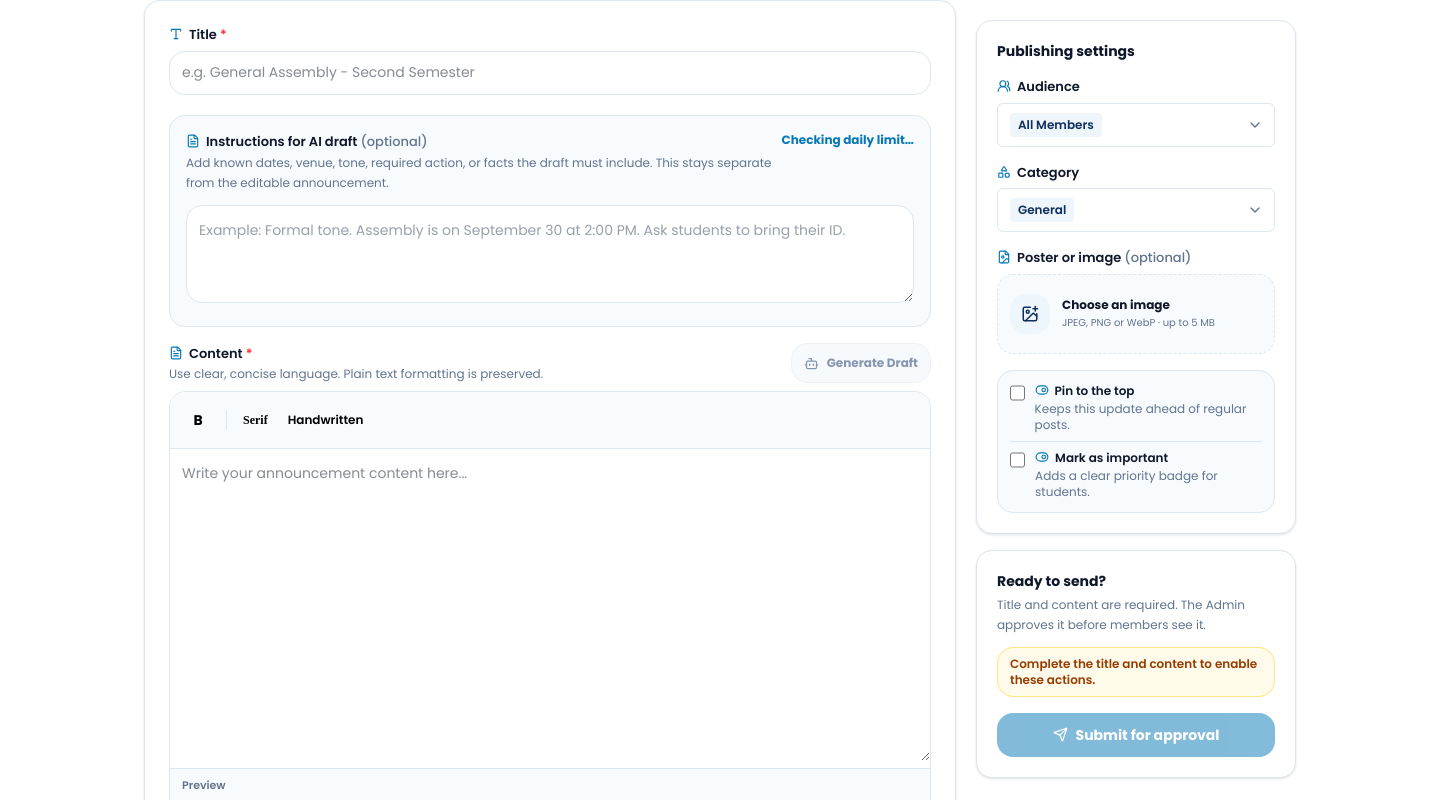
Test: CreateAnnouncementPage › tells an Officer the announcement goes to the Admin for approval before members see it
Type "General Assembly" into the field labelled "Title *".
click(550, 72); type("General Assembly")  # box [169,50,931,94]
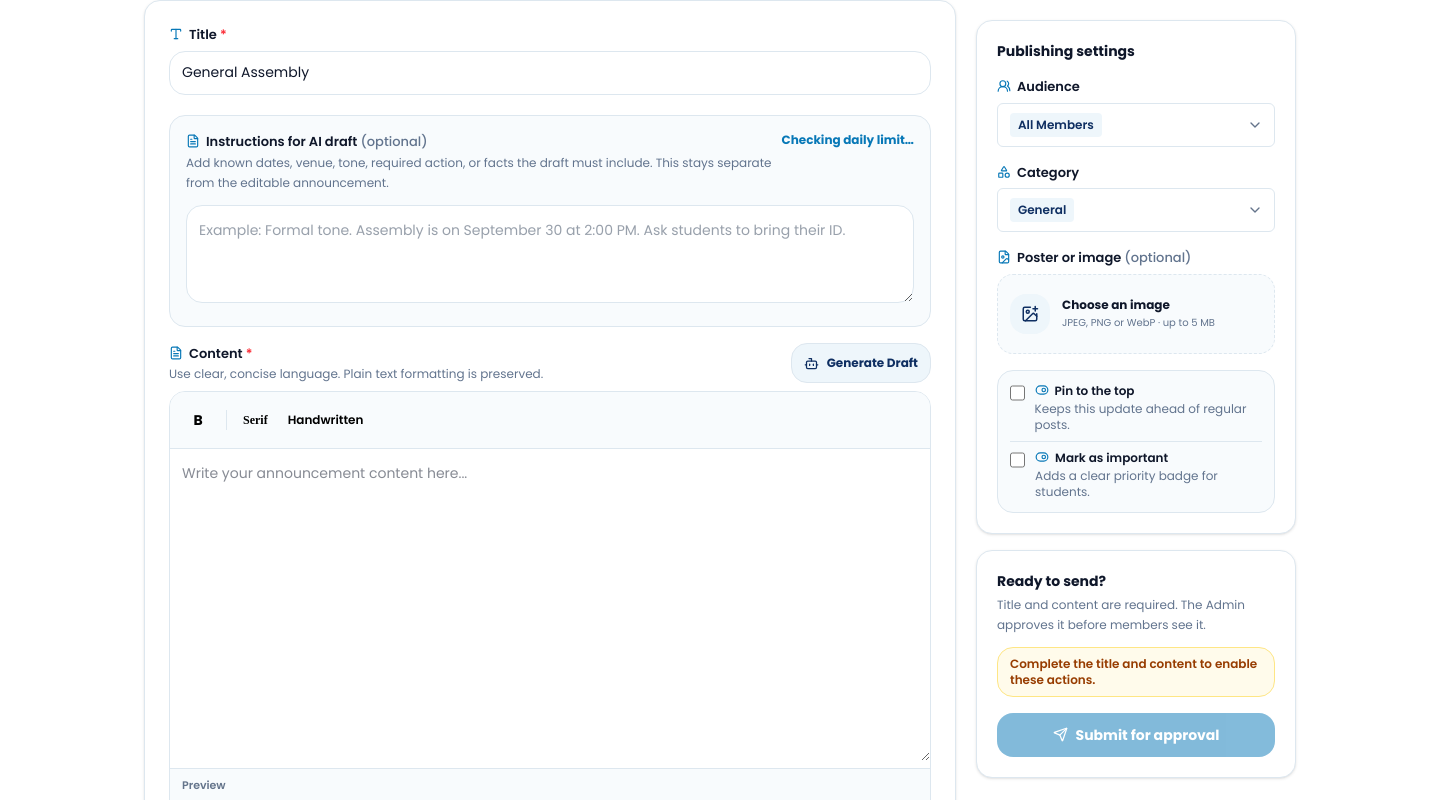
Type "All members are invited." into the text box labelled "Content *".
click(550, 605); type("All members are invited.")  # box [170,449,930,761]
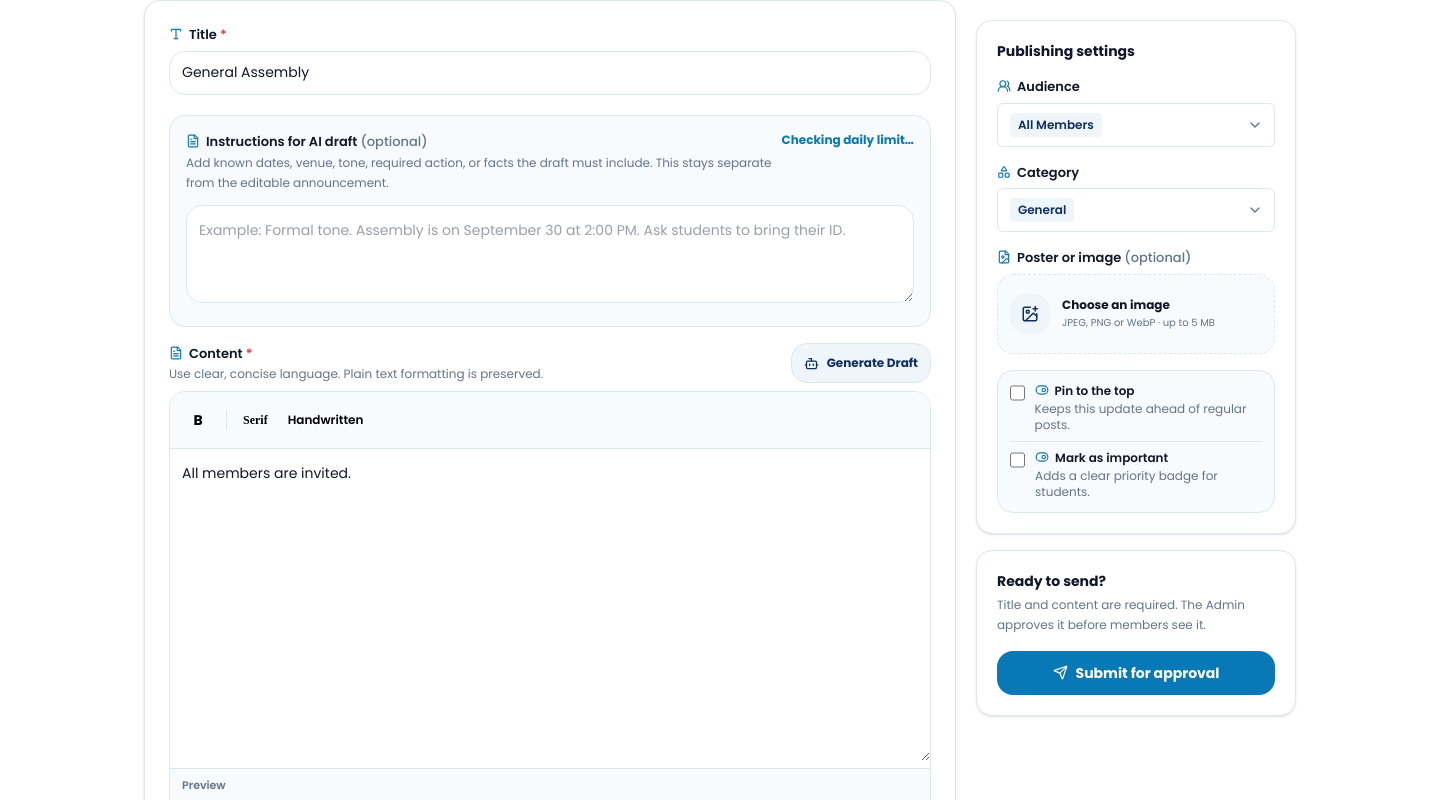
Click the button "Submit for approval".
click(1136, 672)  # box [997,650,1275,694]
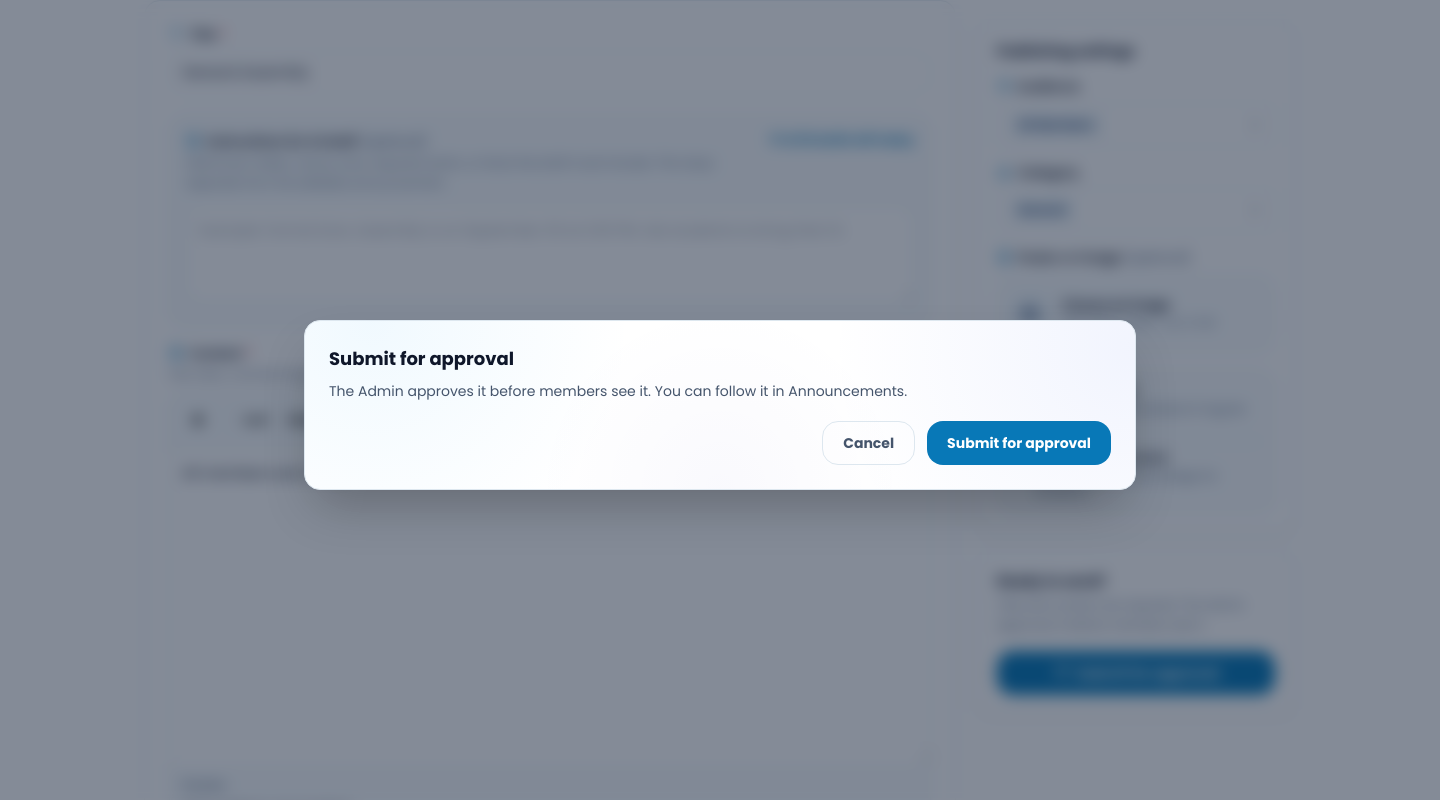
Expected: the text "Admin approves it before members see it" is shown, [329,381,907,401]
Click the button "Submit for approval".
click(1019, 443)  # box [927,421,1111,465]
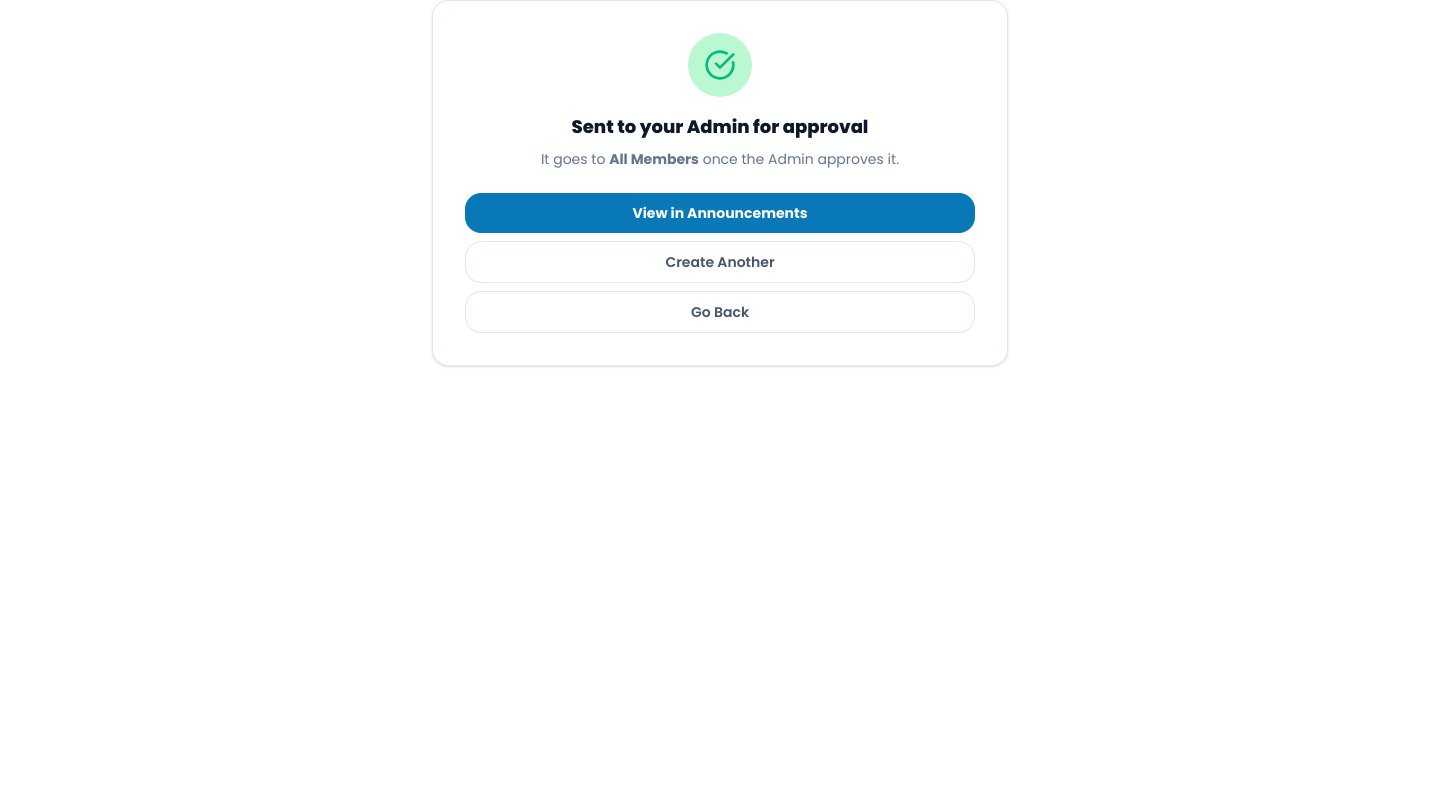
Expected: the heading "Sent to your Admin for approval" is shown, [572,114,868,139]
Expected: the text "It goes to All Members once the Admin approves it." is shown, [541,149,899,169]
